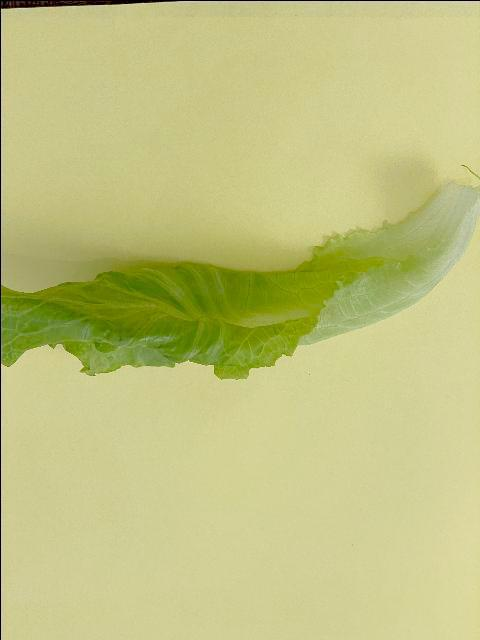lettuce: (0, 178, 480, 384)
